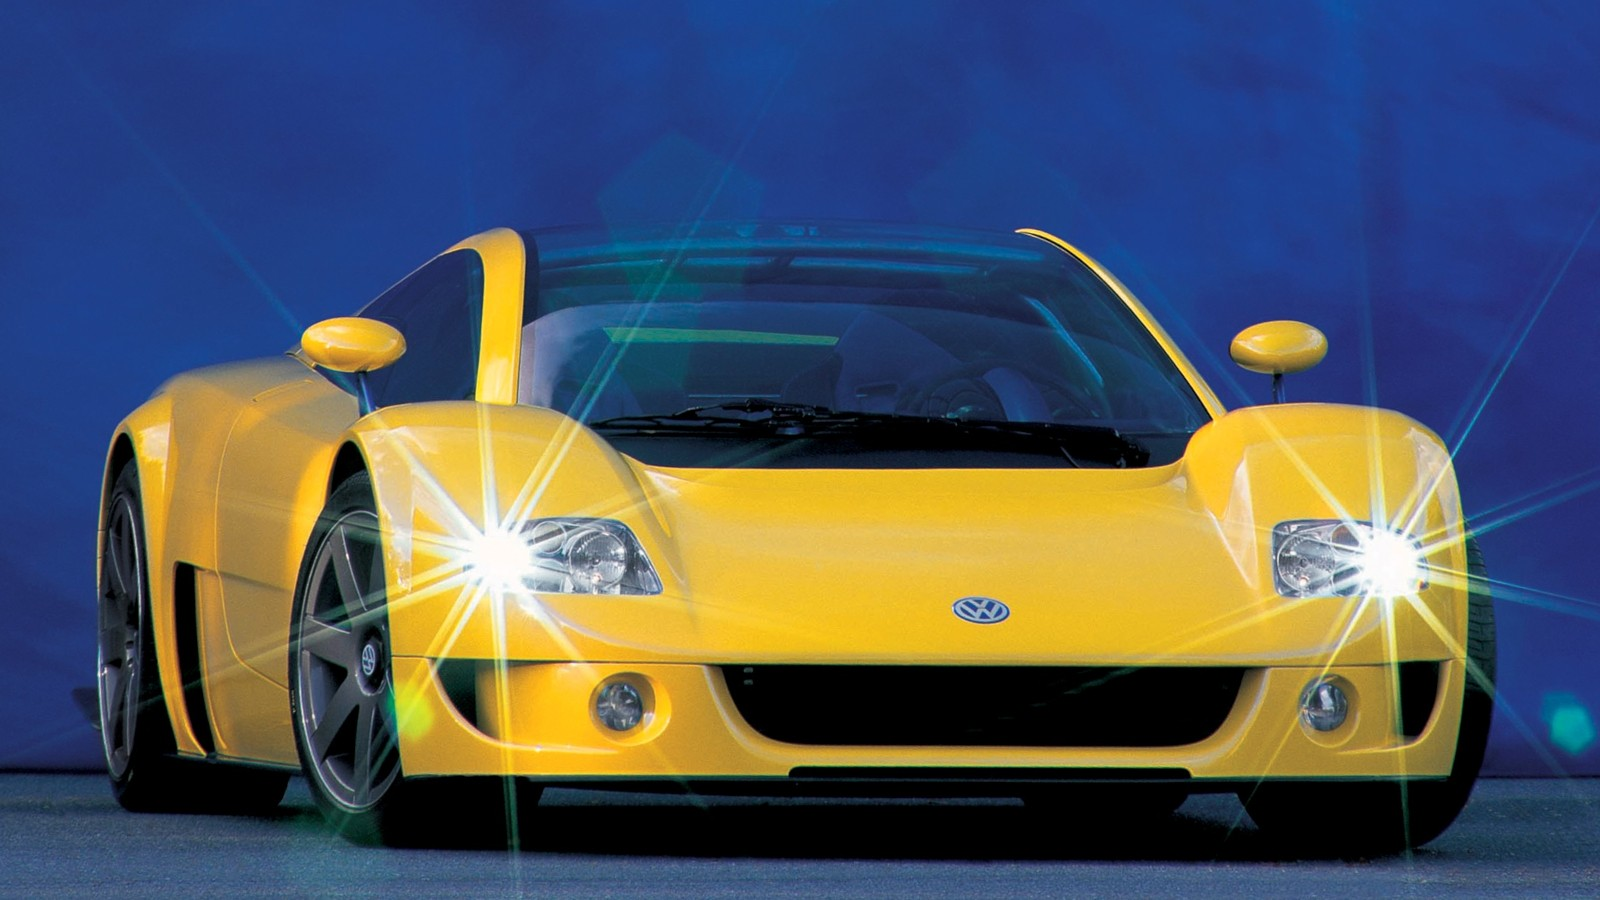headlight: (453, 495, 679, 595), (1251, 484, 1447, 595)
wheel: (1243, 510, 1509, 854), (77, 446, 298, 814), (289, 473, 402, 854)
